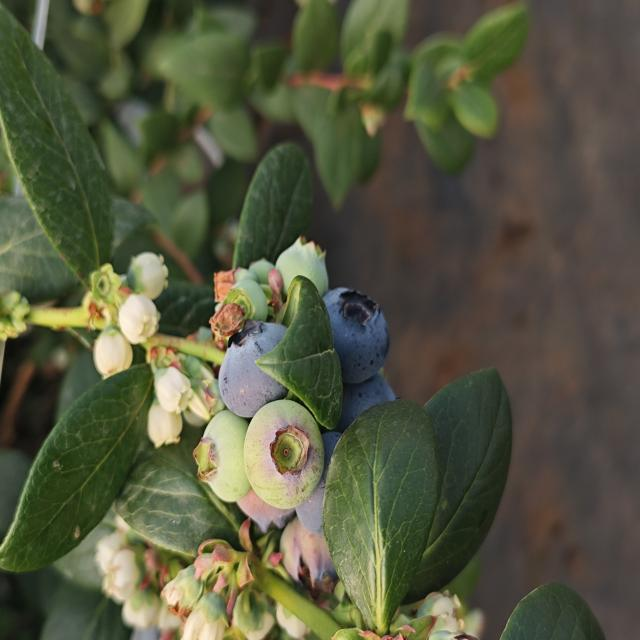ripe: (216, 318, 292, 420), (320, 284, 392, 387), (293, 444, 356, 544), (326, 385, 399, 438)
